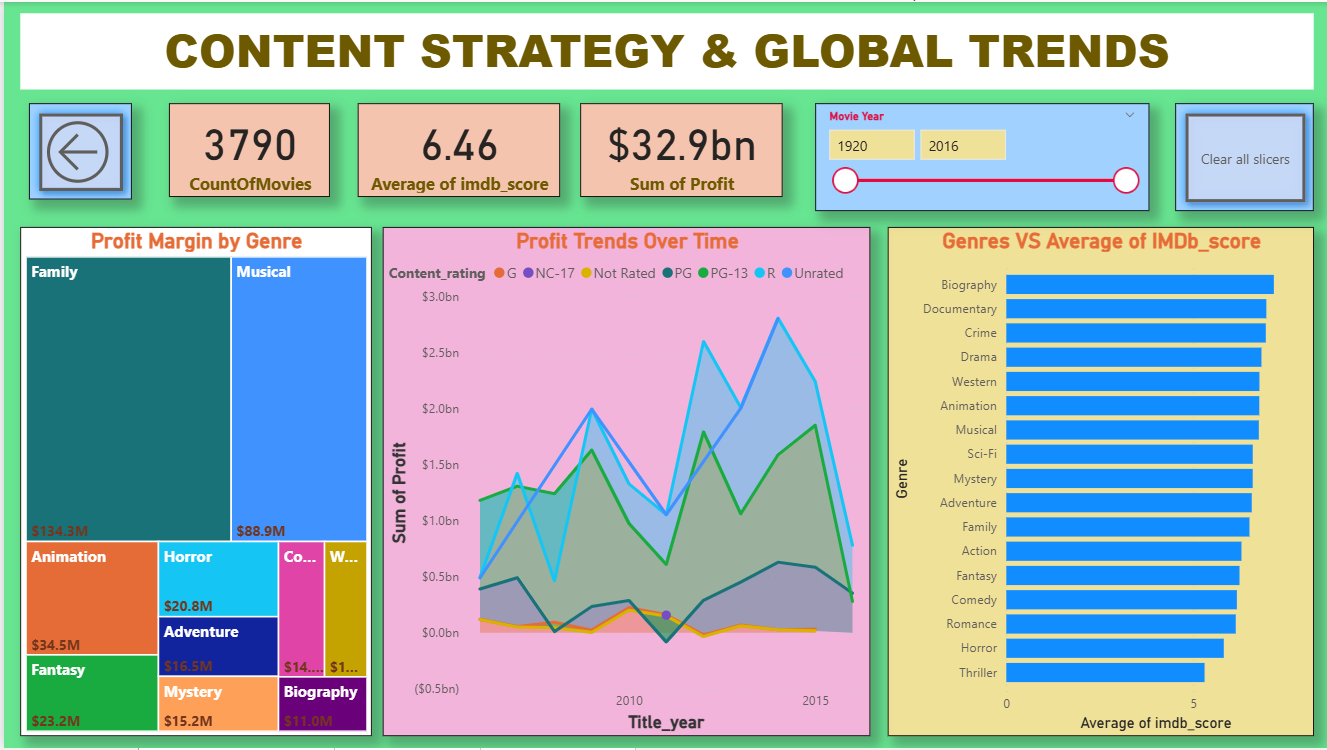

This screenshot's page, from the dashboard's own definition file:
{"tool":"powerbi","page":{"name":"Content Trends","canvas":[1280,720],"ordinal":2},"visuals":[{"type":"barChart","title":"Genres VS Average of IMDb_score","fields":{"Category":["Movie_metadata.Genre"],"Y":["Avg(Movie_metadata.imdb_score)"]},"box":[852.6,216.5,411.5,490.9],"z":0},{"type":"treemap","title":"Profit Margin by Genre","fields":{"Group":["Movie_metadata.Genre"],"Values":["Avg(Movie_metadata.Profit)"]},"box":[16.1,216.5,338.9,490.9],"z":1000},{"type":"card","fields":{"Values":["Movie_metadata.CountOfMovies"]},"box":[159.2,97.7,155.6,90.5],"z":2000},{"type":"card","fields":{"Values":["Avg(Movie_metadata.imdb_score)"]},"box":[341.3,97.7,195.4,90.5],"z":3000},{"type":"card","fields":{"Values":["Sum(Movie_metadata.Profit)"]},"box":[556,97.7,195.4,90.5],"z":4000},{"type":"stackedAreaChart","title":"Profit Trends Over Time","fields":{"Category":["Movie_metadata.Title_year"],"Y":["Sum(Movie_metadata.Profit)"],"Series":["Movie_metadata.Content_rating"]},"box":[369.2,217.2,466.9,491],"z":5000},{"type":"textbox","box":[15.7,10.9,1248.2,73.6],"z":6000},{"type":"actionButton","box":[24.1,97.7,98.9,92.9],"z":7000},{"type":"actionButton","box":[1130.1,97.7,133.9,103.7],"z":8000},{"type":"slicer","fields":{"Values":["Movie_metadata.Title_year"]},"box":[782.7,97.7,322,103.7],"z":9000}]}

Visuals, with their boxes in screenshot pixels (x1, y1, x2, y2), scaled from the page's 1280x720 canvas onto the 1327x750 screenshot:
"Genres VS Average of IMDb_score" barChart: bbox(884, 226, 1311, 737)
"Profit Margin by Genre" treemap: bbox(17, 226, 368, 737)
card - Movie_metadata.CountOfMovies: bbox(165, 102, 326, 196)
card - Avg(Movie_metadata.imdb_score): bbox(354, 102, 556, 196)
card - Sum(Movie_metadata.Profit): bbox(576, 102, 779, 196)
"Profit Trends Over Time" stackedAreaChart: bbox(383, 226, 867, 738)
textbox: bbox(16, 11, 1310, 88)
actionButton: bbox(25, 102, 128, 199)
actionButton: bbox(1172, 102, 1310, 210)
slicer - Movie_metadata.Title_year: bbox(811, 102, 1145, 210)
